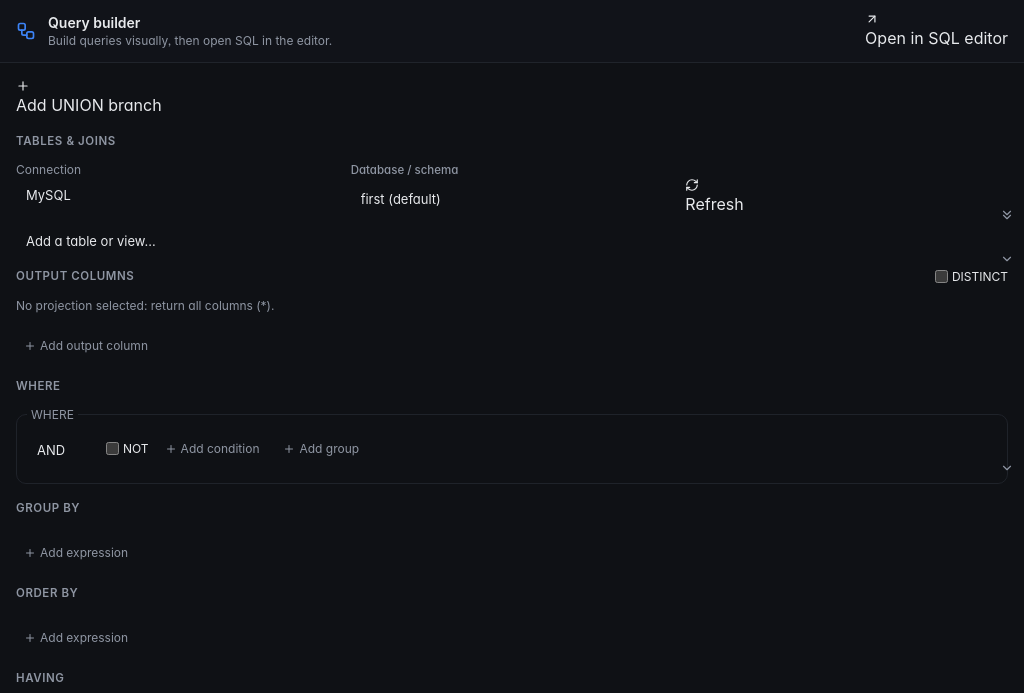
Test: QueryBuilderView › keeps same-name MySQL tables bound to their selected databases
Select "users" in the dropdown named "Add a table or view…" at {"x": 102, "y": 242}, box [16,232,188,252]
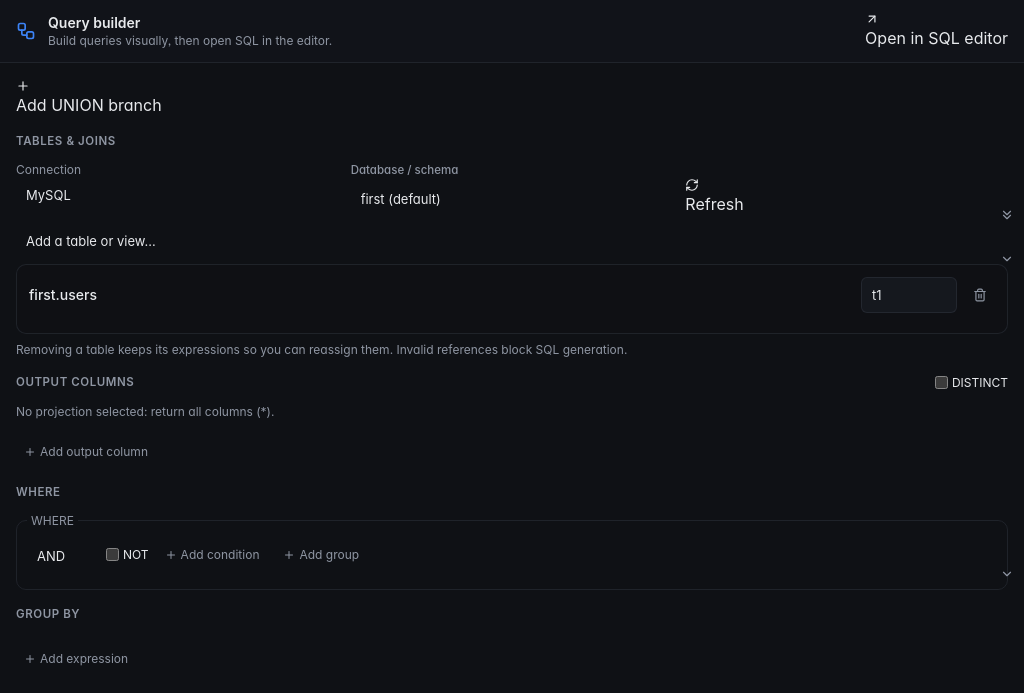
Select "second" in the dropdown named "Database / schema" at {"x": 412, "y": 199}, box [351,190,474,209]
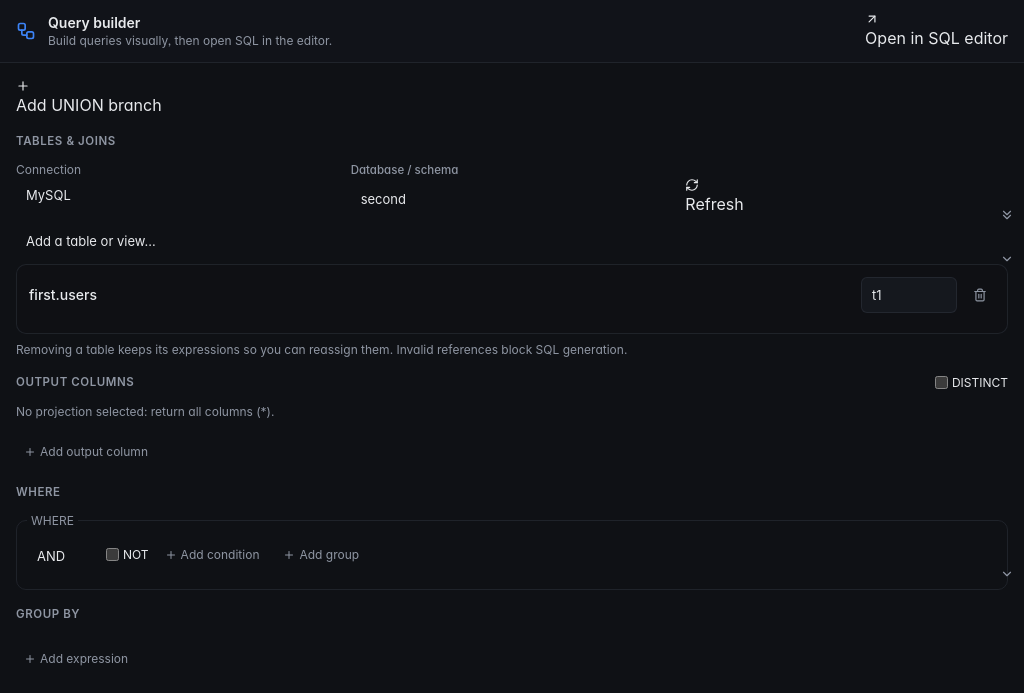
Select "second.users" in the dropdown named "Add a table or view…" at {"x": 102, "y": 242}, box [16,232,188,252]
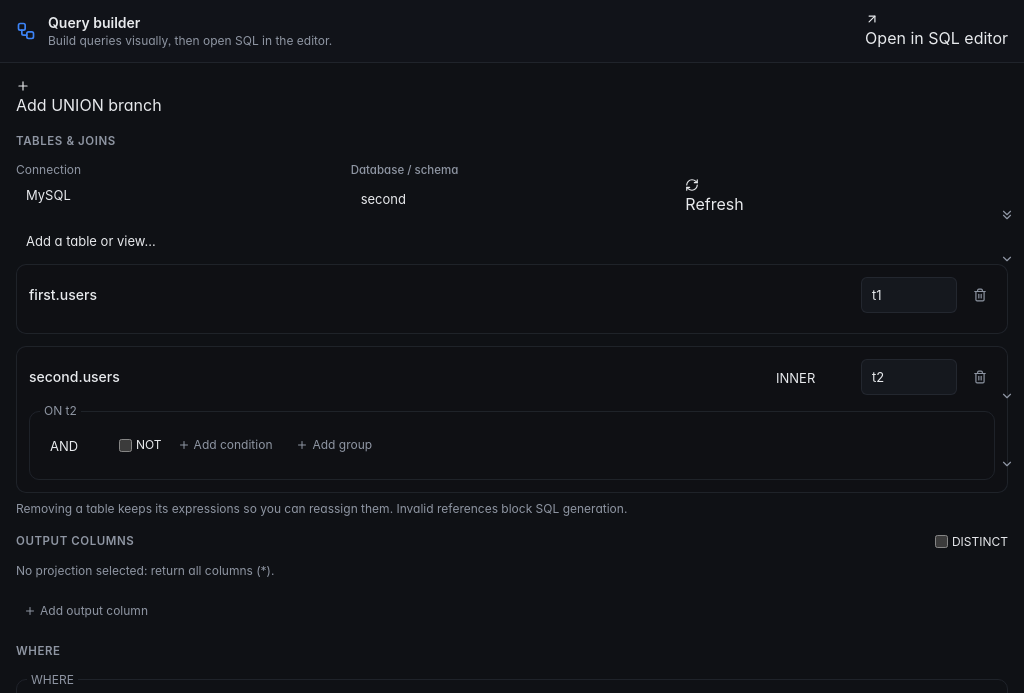
Select "CROSS" in the dropdown named "Join type 1" at {"x": 810, "y": 379}, box [766,369,853,389]
(page scrolled)
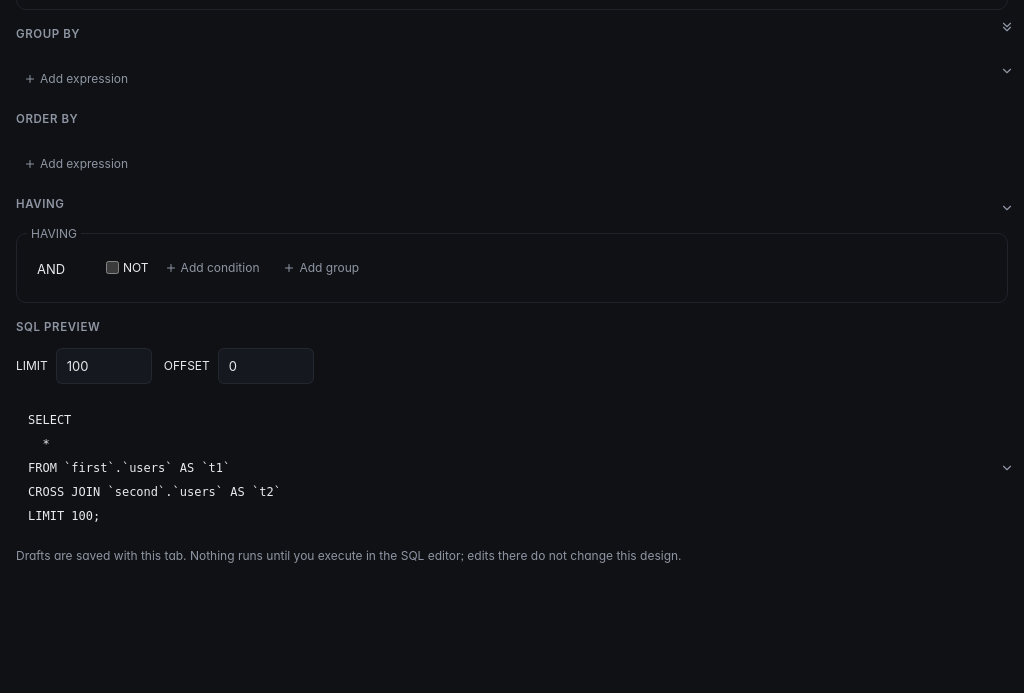
Expected: the text named "SQL preview" shows "FROM `first`.`users` AS `t1`", [28,413,281,523]
Expected: the text named "SQL preview" shows "CROSS JOIN `second`.`users` AS `t2`", [28,413,281,523]
